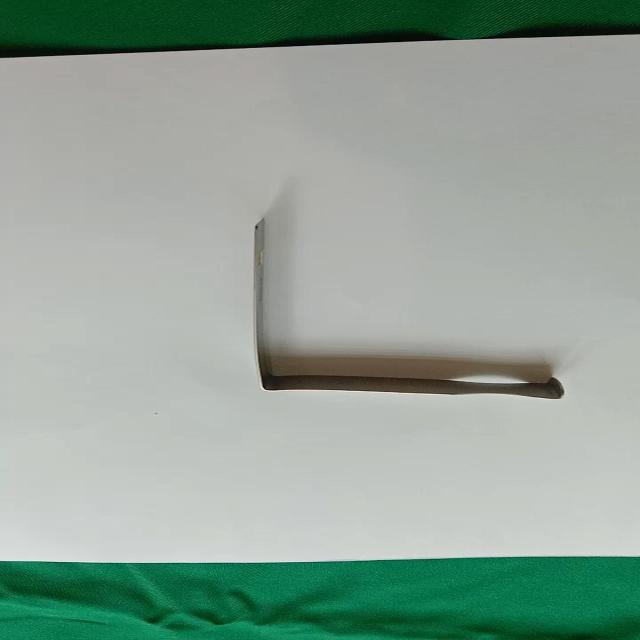AustinRetractor: (246, 213, 584, 407)
